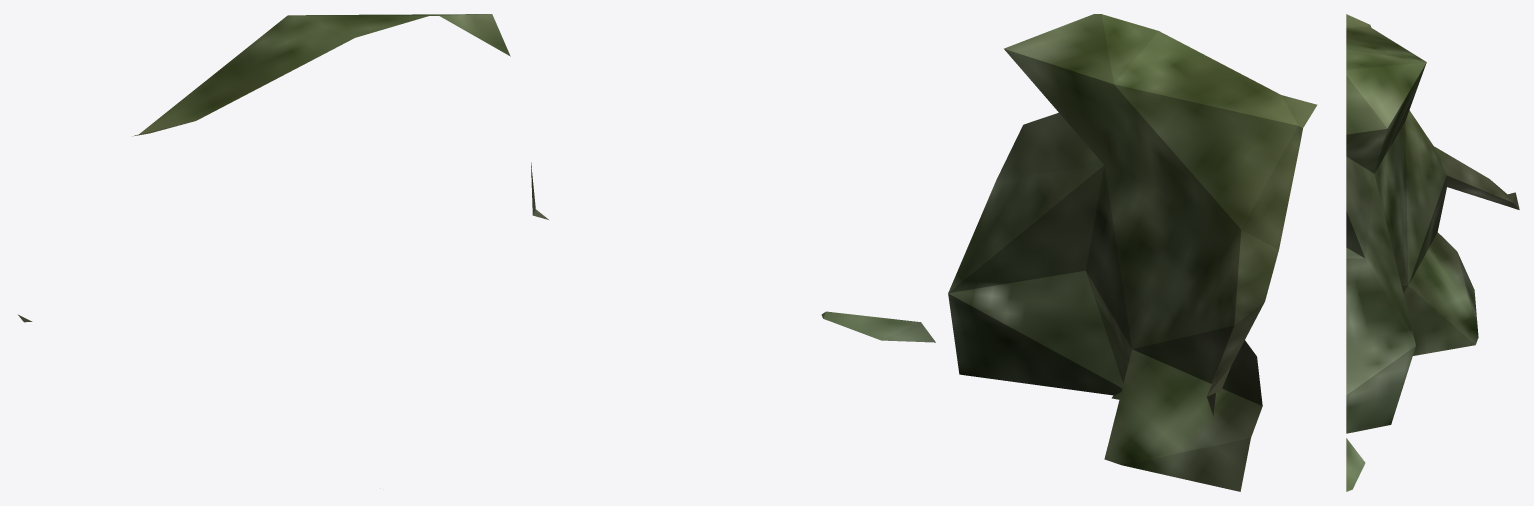
3 renders of one model, left to right at view 1: azimuth 30°, elevation 25°; view 2: azimuth 150°, elevation 25°; view 3: azimuth 270°, elevation 25°, orthographic. The views are drawn at different scales.
Bounding box in the file's own units: 0.8591 × 0.6103 × 0.3121.
Materials: 1 (1 with a texture image).
